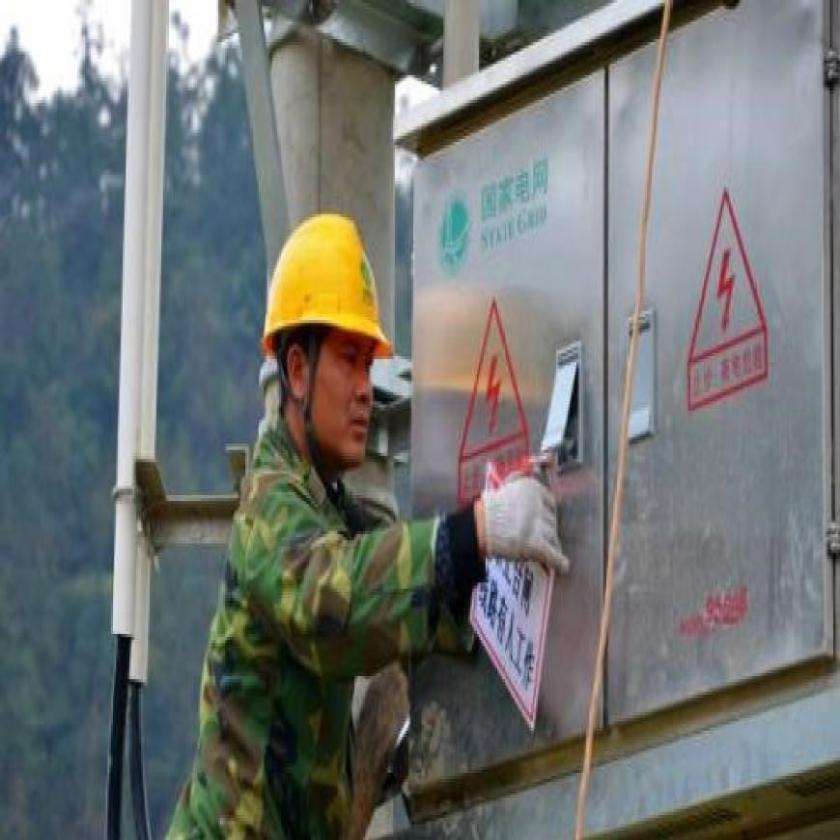Con_casco: (253, 200, 404, 498)
